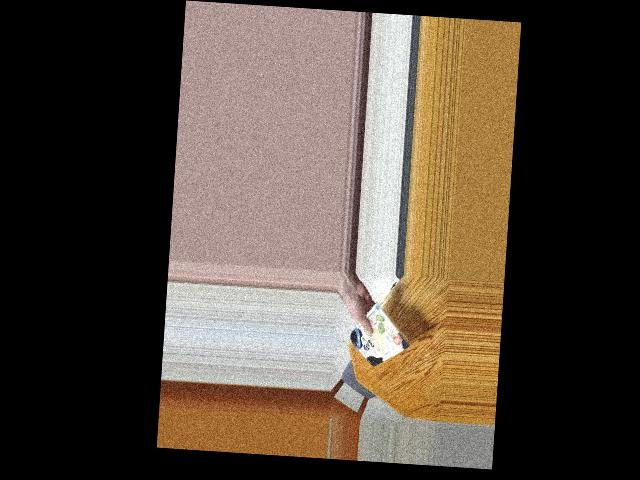cheese: (356, 307, 402, 366)
